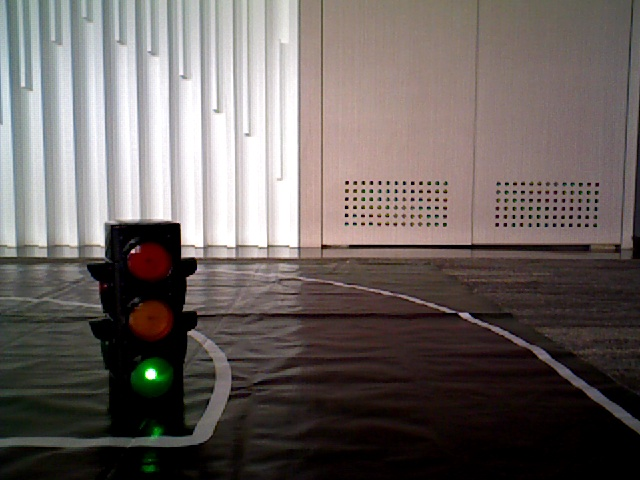green: (115, 225, 182, 398)
